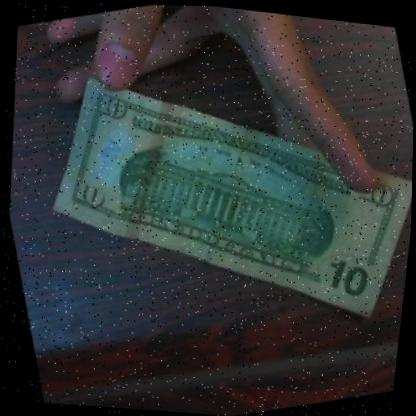dollar_back: (0, 0, 416, 400)
